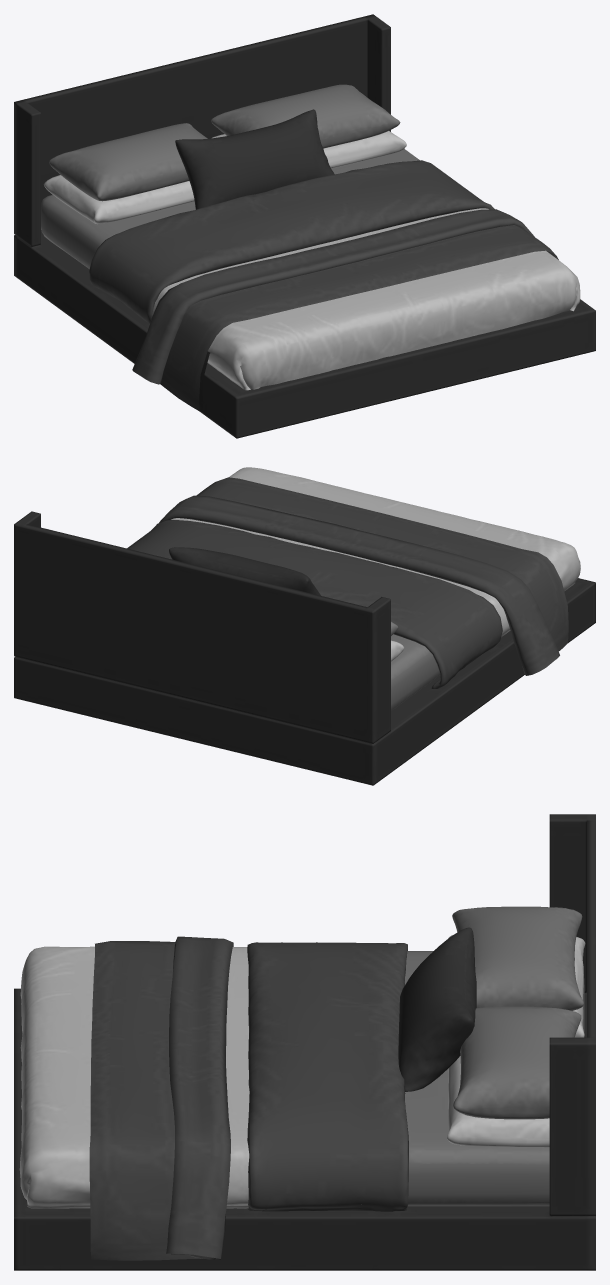
File: bed_1k.glb
3 views of the same model, one above another, from view 1: azimuth 30°, elevation 25°; view 2: azimuth 150°, elevation 25°; view 3: azimuth 270°, elevation 25° (orthographic). The views are drawn at different scales.
Parts seen in each view (by area): view 1: Bed_LP_Default_0; view 2: Bed_LP_Default_0; view 3: Bed_LP_Default_0.
Part boxes in pixels (left/top/right/bottom): Bed_LP_Default_0: left=14, top=14, right=595, bottom=438; Bed_LP_Default_0: left=14, top=467, right=595, bottom=785; Bed_LP_Default_0: left=14, top=814, right=595, bottom=1270.
Bounding box in the file's own units: 2137 × 858 × 1993.
Materials: 1 (1 with a texture image).
